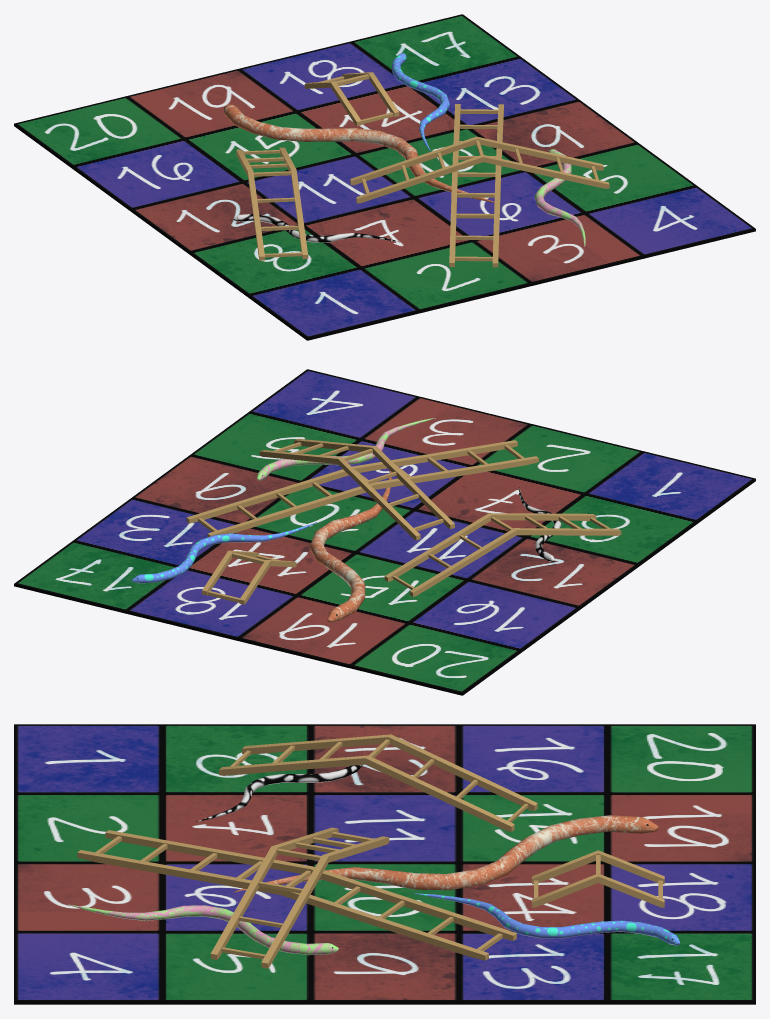
Rendered from Snakes_Ladders.fbx.
The picture shows the model from 3 angles, top to bottom: view 1: azimuth 30°, elevation 25°; view 2: azimuth 150°, elevation 25°; view 3: azimuth 270°, elevation 25°; orthographic projection. The views are drawn at different scales.
Parts seen in each view (by area): view 1: FullGame; view 2: FullGame; view 3: FullGame.
Part boxes in pixels (box(x1,y1,x2,y2)): FullGame: box(14, 14, 755, 340); FullGame: box(14, 369, 755, 695); FullGame: box(14, 724, 755, 1004).
Size of the model in its own units: 1293 by 115 by 1465.
